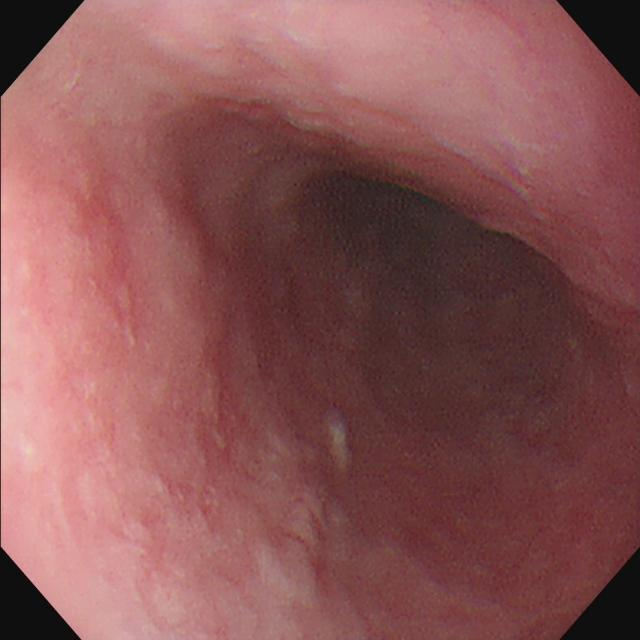J: (325, 413, 355, 472)
